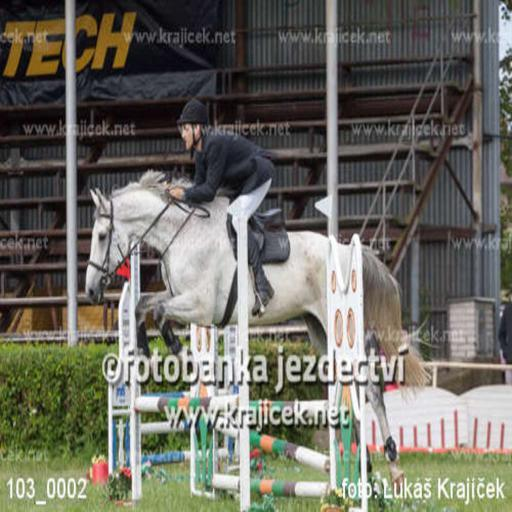Horse: (84, 166, 433, 478)
